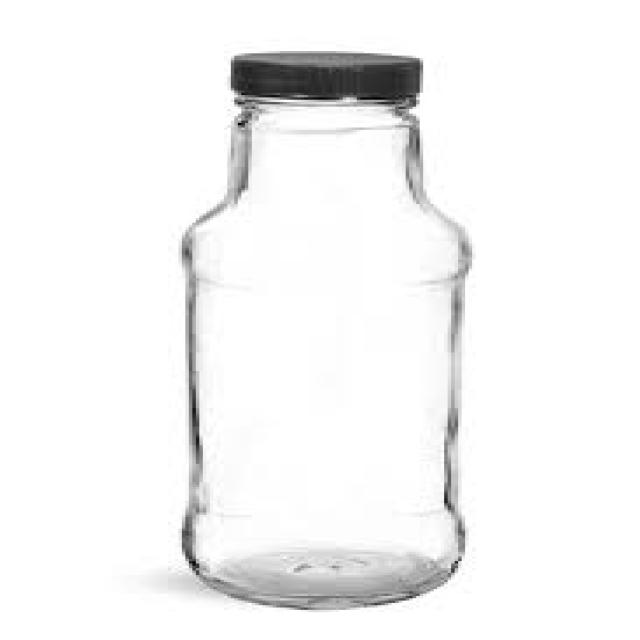glass: (178, 95, 462, 605)
metal: (224, 49, 416, 100)
